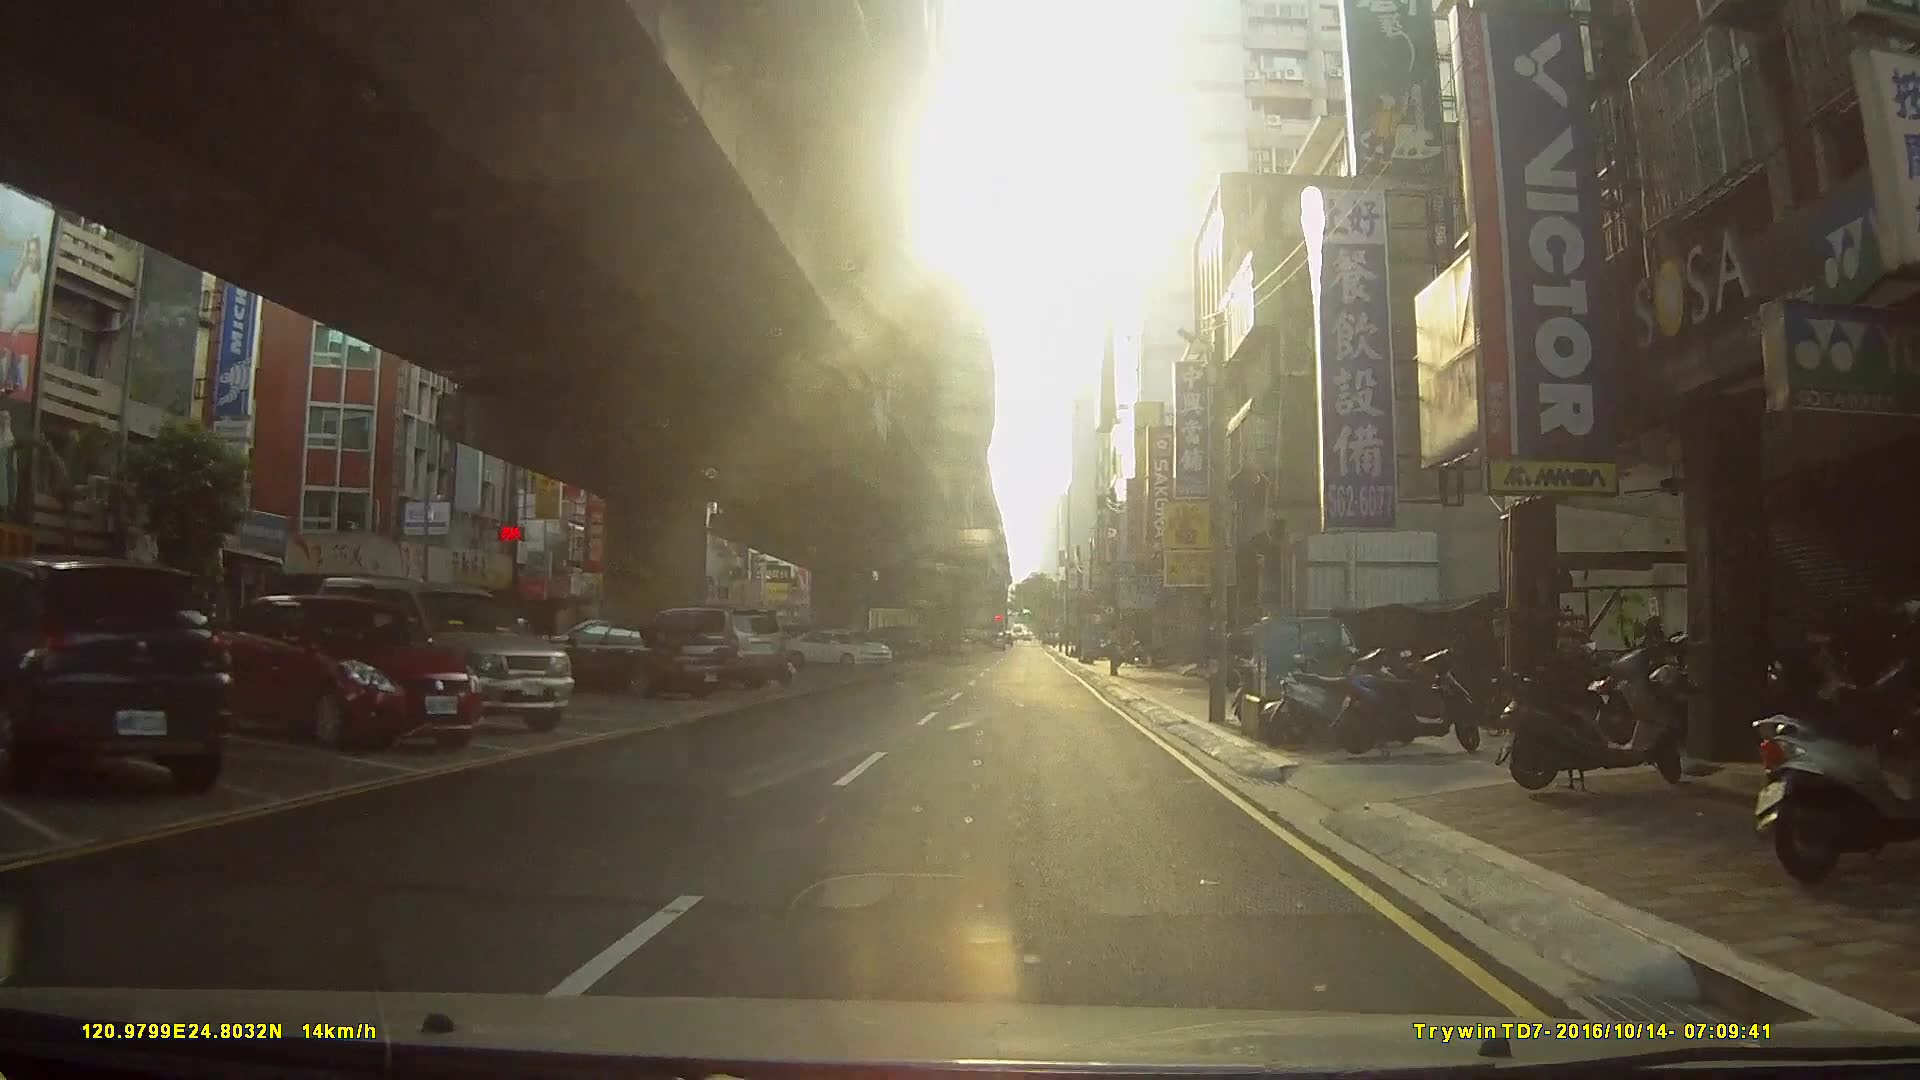vehicle: (0, 553, 237, 793), (313, 572, 576, 735), (214, 591, 483, 746), (545, 615, 738, 698), (625, 604, 786, 692), (782, 625, 895, 667)
